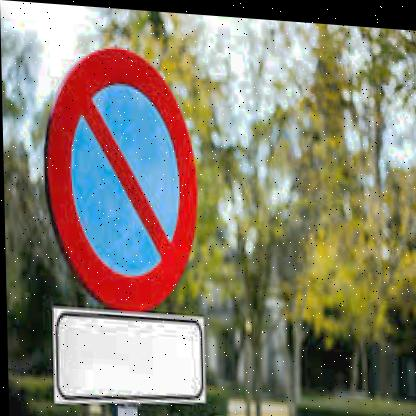No parking: (43, 25, 198, 313)
